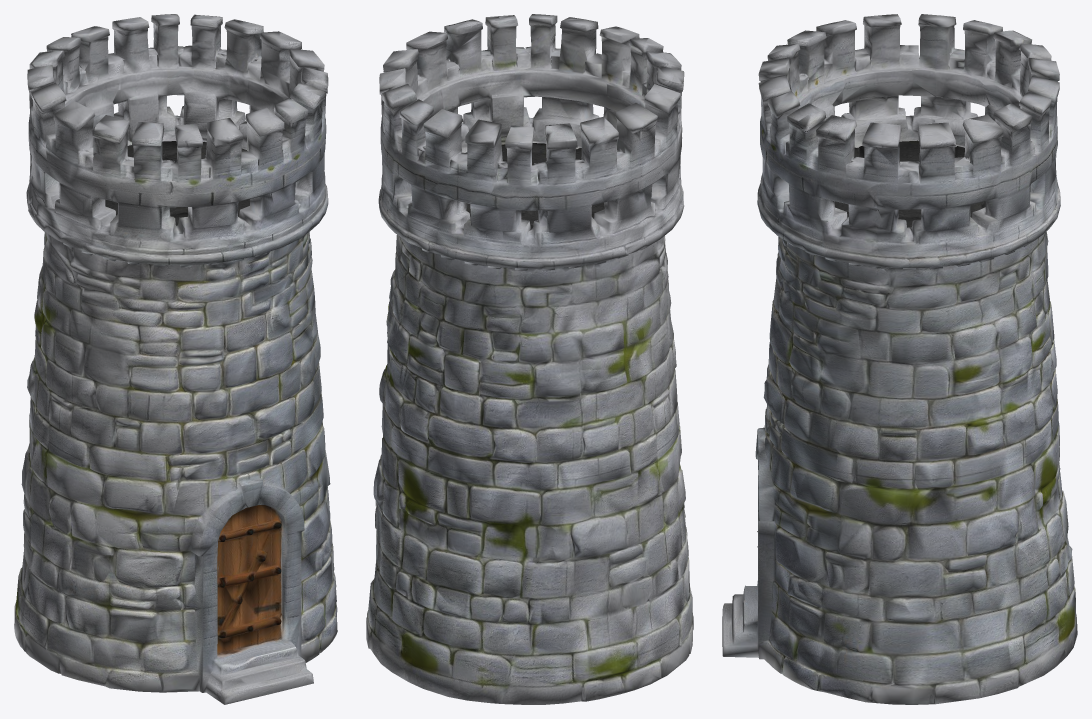
The model's file is keep.glb.
3 views of the same model, side by side, from view 1: azimuth 30°, elevation 25°; view 2: azimuth 150°, elevation 25°; view 3: azimuth 270°, elevation 25° (orthographic).
Visible parts, largest first — view 1: mesh_node; view 2: mesh_node; view 3: mesh_node.
Part boxes in pixels (bbox=[...]): mesh_node: bbox=[14, 14, 337, 704]; mesh_node: bbox=[366, 14, 693, 704]; mesh_node: bbox=[722, 14, 1077, 704].
Size of the model in its own units: 6.41 by 12 by 6.86.
Materials: 1 (1 with a texture image).
